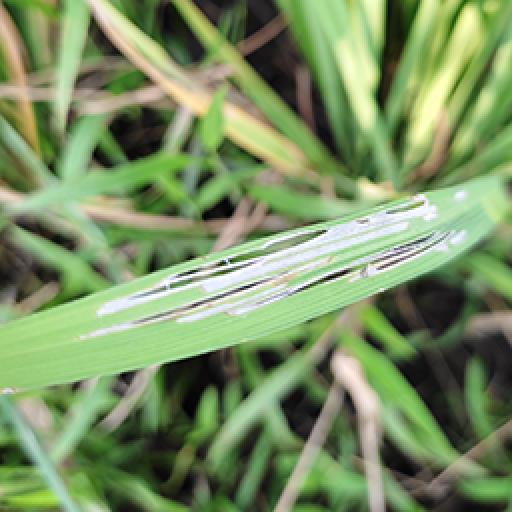Bacterial Leaf Blight: (68, 194, 472, 352)
